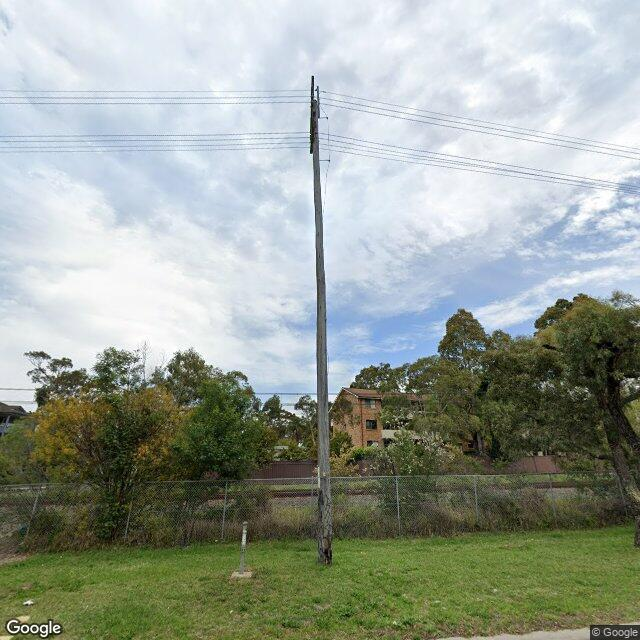crossarm: (309, 76, 314, 154), (316, 85, 321, 119)
timber-pole: (312, 100, 333, 566)
